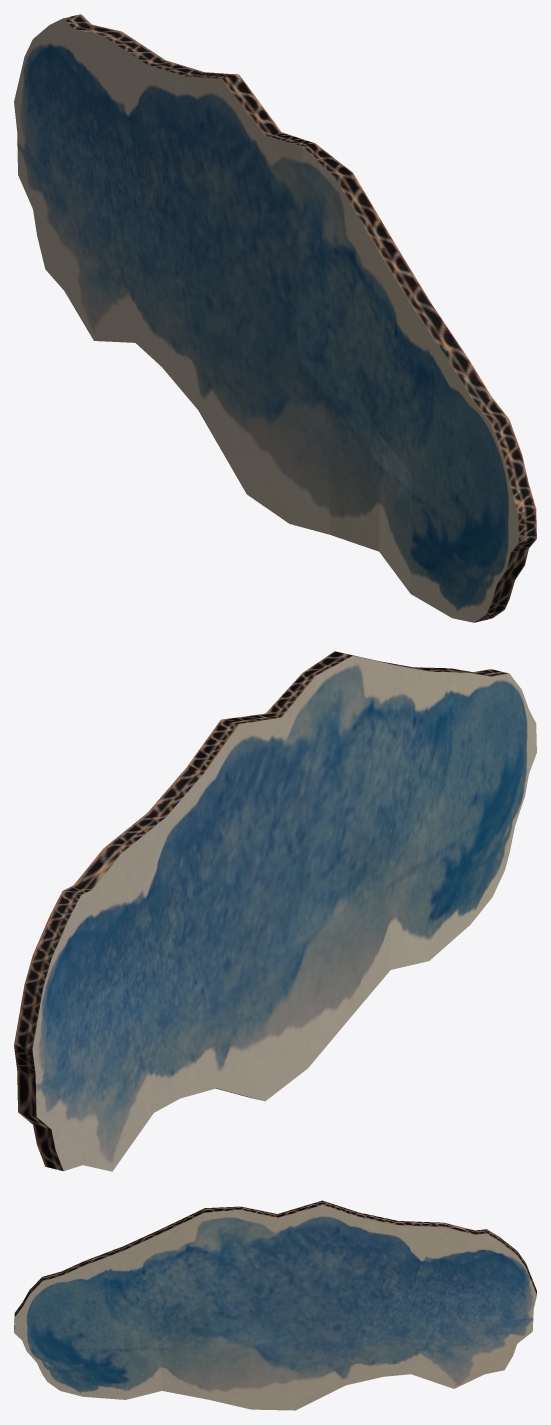
File: Cloud-04.fbx
3 renders of one model, top to bottom at view 1: azimuth 30°, elevation 25°; view 2: azimuth 150°, elevation 25°; view 3: azimuth 270°, elevation 25°, orthographic. The views are drawn at different scales.
Visible parts, largest first — view 1: Cloud-04; view 2: Cloud-04; view 3: Cloud-04.
Boxes of the visible parts, <box> form: Cloud-04: <box>14,14,536,622</box>; Cloud-04: <box>14,651,536,1171</box>; Cloud-04: <box>14,1200,536,1410</box>.
Size of the model in its own units: 10.72 by 220 by 507.
